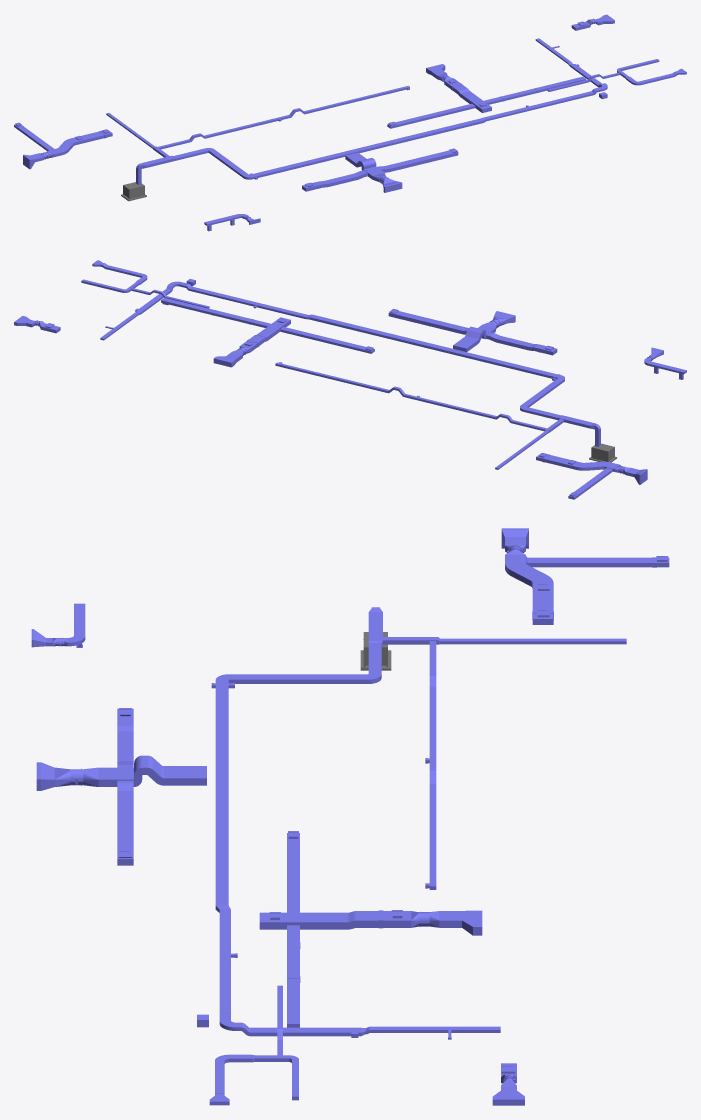
The model's file is Air_Duct_Map.fbx.
The picture shows the model from 3 angles, top to bottom: view 1: azimuth 30°, elevation 25°; view 2: azimuth 150°, elevation 25°; view 3: azimuth 270°, elevation 25°; orthographic projection. The views are drawn at different scales.
Parts seen in each view (by area): view 1: 風管_矩形風管_半徑彎頭_跳接_24[SINICA+TNN+RB02+01F++AC+矩形風管: 半徑彎頭_跳接+], 風管_矩形風管_半徑彎頭_跳接_5[SINICA+TNN+RB02+01F++AC+矩形風管: 半徑彎頭_跳接+], 風管_矩形風管_半徑彎頭_跳接_31[SINICA+TNN+RB02+01F++F+矩形風管: 半徑彎頭_跳接+], 風管_矩形風管_半徑彎頭_跳接_3[SINICA+TNN+RB02+01F++F+矩形風管: 半徑彎頭_跳接+], 風管_矩形風管_半徑彎頭_跳接_14[SINICA+TNN+RB02+01F++AC+矩形風管: 半徑彎頭_跳接+], 機械設備_空調箱-臥式_PAH-11a[SINICA+TNN+RB02+01F+104+AC+空調箱-臥式: PAH-1, 風管_矩形風管_半徑彎頭_跳接_16[SINICA+TNN+RB02+01F++AC+矩形風管: 半徑彎頭_跳接+]; view 2: 風管_矩形風管_半徑彎頭_跳接_24[SINICA+TNN+RB02+01F++AC+矩形風管: 半徑彎頭_跳接+], 風管_矩形風管_半徑彎頭_跳接_5[SINICA+TNN+RB02+01F++AC+矩形風管: 半徑彎頭_跳接+], 風管_矩形風管_半徑彎頭_跳接_31[SINICA+TNN+RB02+01F++F+矩形風管: 半徑彎頭_跳接+], 風管_矩形風管_半徑彎頭_跳接_3[SINICA+TNN+RB02+01F++F+矩形風管: 半徑彎頭_跳接+], 風管_矩形風管_半徑彎頭_跳接_14[SINICA+TNN+RB02+01F++AC+矩形風管: 半徑彎頭_跳接+], 機械設備_空調箱-臥式_PAH-11a[SINICA+TNN+RB02+01F+104+AC+空調箱-臥式: PAH-1, 風管_矩形風管_半徑彎頭_跳接_16[SINICA+TNN+RB02+01F++AC+矩形風管: 半徑彎頭_跳接+]; view 3: 風管_矩形風管_半徑彎頭_跳接_24[SINICA+TNN+RB02+01F++AC+矩形風管: 半徑彎頭_跳接+], 風管_矩形風管_半徑彎頭_跳接_2[SINICA+TNN+RB02+01F++F+矩形風管: 半徑彎頭_跳接+], 風管_矩形風管_半徑彎頭_跳接_23[SINICA+TNN+RB02+01F++AC+矩形風管: 半徑彎頭_跳接+], 風管_矩形風管_FR_排煙_24[SINICA+TNN+RB02+01F++F+矩形風管: FR_排煙+], 風管_矩形風管_半徑彎頭_跳接_10[SINICA+TNN+RB02+01F++AC+矩形風管: 半徑彎頭_跳接+], 風管_矩形風管_半徑彎頭_跳接_5[SINICA+TNN+RB02+01F++AC+矩形風管: 半徑彎頭_跳接+], 風管_矩形風管_半徑彎頭_跳接_31[SINICA+TNN+RB02+01F++F+矩形風管: 半徑彎頭_跳接+], 風管_矩形風管_半徑彎頭_跳接_3[SINICA+TNN+RB02+01F++F+矩形風管: 半徑彎頭_跳接+], 風管_矩形風管_半徑彎頭_T_接頭_12[SINICA+TNN+RB02+01F++AC+矩形風管: 半徑彎頭_T 接頭, 風管_矩形風管_FR_排煙_4[SINICA+TNN+RB02+01F++F+矩形風管: FR_排煙+].
Part boxes in pixels (left/top/right/bottom): 風管_矩形風管_半徑彎頭_跳接_24[SINICA+TNN+RB02+01F++AC+矩形風管: 半徑彎頭_跳接+]: left=250, top=118, right=483, bottom=179; 風管_矩形風管_半徑彎頭_跳接_5[SINICA+TNN+RB02+01F++AC+矩形風管: 半徑彎頭_跳接+]: left=484, top=91, right=594, bottom=121; 風管_矩形風管_半徑彎頭_跳接_31[SINICA+TNN+RB02+01F++F+矩形風管: 半徑彎頭_跳接+]: left=385, top=150, right=458, bottom=172; 風管_矩形風管_半徑彎頭_跳接_3[SINICA+TNN+RB02+01F++F+矩形風管: 半徑彎頭_跳接+]: left=387, top=104, right=473, bottom=128; 風管_矩形風管_半徑彎頭_跳接_14[SINICA+TNN+RB02+01F++AC+矩形風管: 半徑彎頭_跳接+]: left=304, top=85, right=409, bottom=114; 機械設備_空調箱-臥式_PAH-11a[SINICA+TNN+RB02+01F+104+AC+空調箱-臥式: PAH-1: left=121, top=182, right=146, bottom=201; 風管_矩形風管_半徑彎頭_跳接_16[SINICA+TNN+RB02+01F++AC+矩形風管: 半徑彎頭_跳接+]: left=204, top=115, right=290, bottom=138; 風管_矩形風管_半徑彎頭_跳接_24[SINICA+TNN+RB02+01F++AC+矩形風管: 半徑彎頭_跳接+]: left=309, top=314, right=560, bottom=379; 風管_矩形風管_半徑彎頭_跳接_5[SINICA+TNN+RB02+01F++AC+矩形風管: 半徑彎頭_跳接+]: left=189, top=286, right=307, bottom=318; 風管_矩形風管_半徑彎頭_跳接_31[SINICA+TNN+RB02+01F++F+矩形風管: 半徑彎頭_跳接+]: left=388, top=311, right=467, bottom=334; 風管_矩形風管_半徑彎頭_跳接_3[SINICA+TNN+RB02+01F++F+矩形風管: 半徑彎頭_跳接+]: left=281, top=327, right=374, bottom=353; 風管_矩形風管_半徑彎頭_跳接_14[SINICA+TNN+RB02+01F++AC+矩形風管: 半徑彎頭_跳接+]: left=275, top=362, right=389, bottom=392; 機械設備_空調箱-臥式_PAH-11a[SINICA+TNN+RB02+01F+104+AC+空調箱-臥式: PAH-1: left=589, top=443, right=617, bottom=462; 風管_矩形風管_半徑彎頭_跳接_16[SINICA+TNN+RB02+01F++AC+矩形風管: 半徑彎頭_跳接+]: left=403, top=394, right=496, bottom=419; 風管_矩形風管_半徑彎頭_跳接_24[SINICA+TNN+RB02+01F++AC+矩形風管: 半徑彎頭_跳接+]: left=215, top=680, right=228, bottom=905; 風管_矩形風管_半徑彎頭_跳接_2[SINICA+TNN+RB02+01F++F+矩形風管: 半徑彎頭_跳接+]: left=259, top=912, right=347, bottom=929; 風管_矩形風管_半徑彎頭_跳接_23[SINICA+TNN+RB02+01F++AC+矩形風管: 半徑彎頭_跳接+]: left=229, top=674, right=367, bottom=683; 風管_矩形風管_FR_排煙_24[SINICA+TNN+RB02+01F++F+矩形風管: FR_排煙+]: left=527, top=557, right=652, bottom=567; 風管_矩形風管_半徑彎頭_跳接_10[SINICA+TNN+RB02+01F++AC+矩形風管: 半徑彎頭_跳接+]: left=440, top=638, right=626, bottom=644; 風管_矩形風管_半徑彎頭_跳接_5[SINICA+TNN+RB02+01F++AC+矩形風管: 半徑彎頭_跳接+]: left=219, top=909, right=230, bottom=1013; 風管_矩形風管_半徑彎頭_跳接_31[SINICA+TNN+RB02+01F++F+矩形風管: 半徑彎頭_跳接+]: left=117, top=791, right=133, bottom=865; 風管_矩形風管_半徑彎頭_跳接_3[SINICA+TNN+RB02+01F++F+矩形風管: 半徑彎頭_跳接+]: left=287, top=833, right=299, bottom=912; 風管_矩形風管_半徑彎頭_T_接頭_12[SINICA+TNN+RB02+01F++AC+矩形風管: 半徑彎頭_T 接頭: left=250, top=1027, right=351, bottom=1036; 風管_矩形風管_FR_排煙_4[SINICA+TNN+RB02+01F++F+矩形風管: FR_排煙+]: left=164, top=766, right=206, bottom=785.
Bounding box in the file's own units: 8357 × 3949 × 487.
